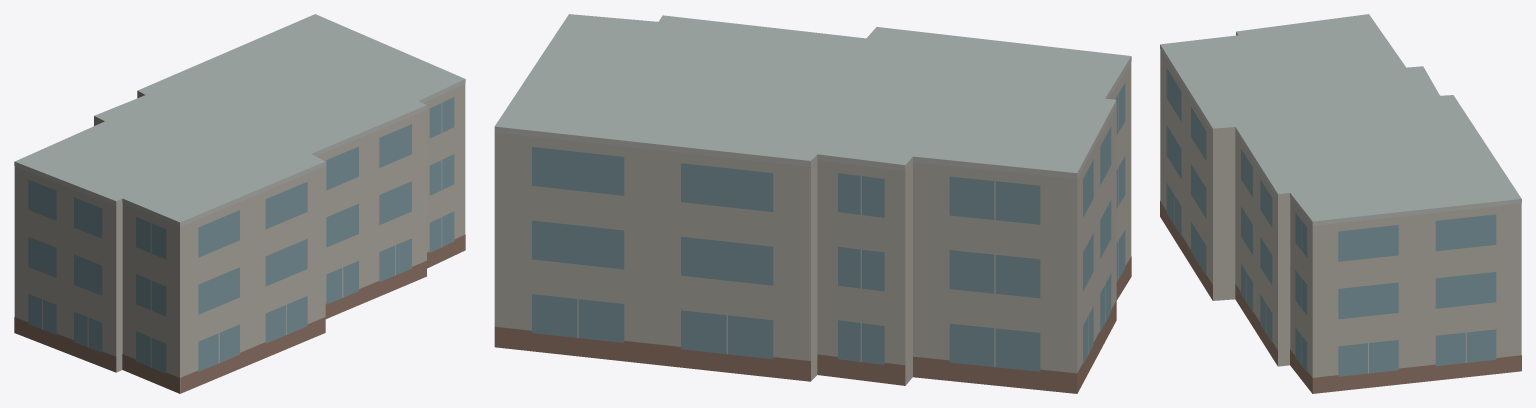
File: survey-upis-32927715.glb
3 renders of one model, left to right at view 1: azimuth 30°, elevation 25°; view 2: azimuth 150°, elevation 25°; view 3: azimuth 270°, elevation 25°, orthographic. The views are drawn at different scales.
Parts seen in each view (by area): view 1: survey-upis-32927715.tmp; view 2: survey-upis-32927715.tmp; view 3: survey-upis-32927715.tmp.
Part boxes in pixels (x1,y1,x2,y2): survey-upis-32927715.tmp: (14,14,465,393); survey-upis-32927715.tmp: (494,14,1131,393); survey-upis-32927715.tmp: (1160,14,1521,393).
Size of the model in its own units: 23.63 by 9.15 by 17.41.
